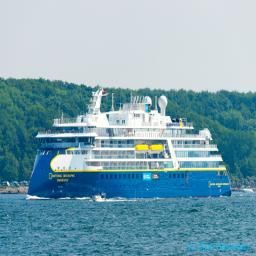cruises: (27, 87, 234, 203)
